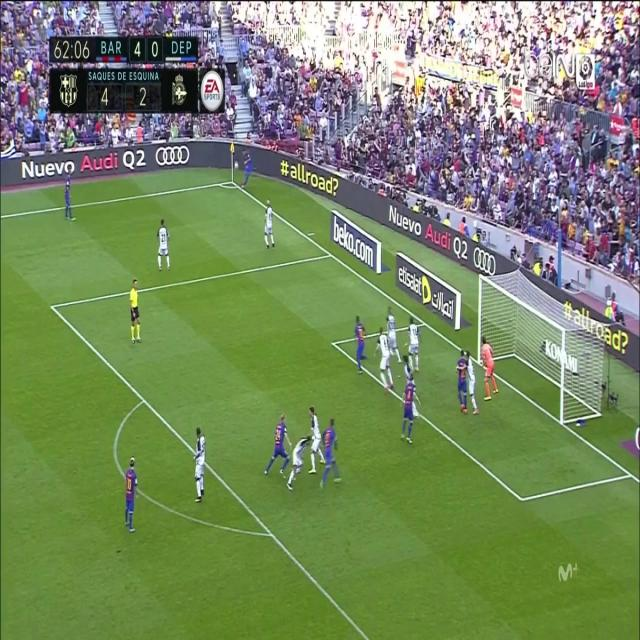Ball: (233, 158, 240, 174)
Goalkeeper: (479, 333, 502, 401)
Player: (318, 414, 344, 496), (263, 413, 293, 482), (372, 327, 397, 393), (123, 452, 141, 536), (286, 432, 309, 496), (307, 401, 325, 479), (399, 376, 419, 445), (464, 346, 481, 422), (192, 424, 208, 504), (382, 305, 403, 365), (454, 348, 470, 416), (406, 316, 424, 376), (156, 218, 174, 277), (354, 313, 368, 382), (61, 172, 76, 226), (263, 200, 276, 254), (240, 146, 252, 190)
Referee: (128, 277, 141, 348)
